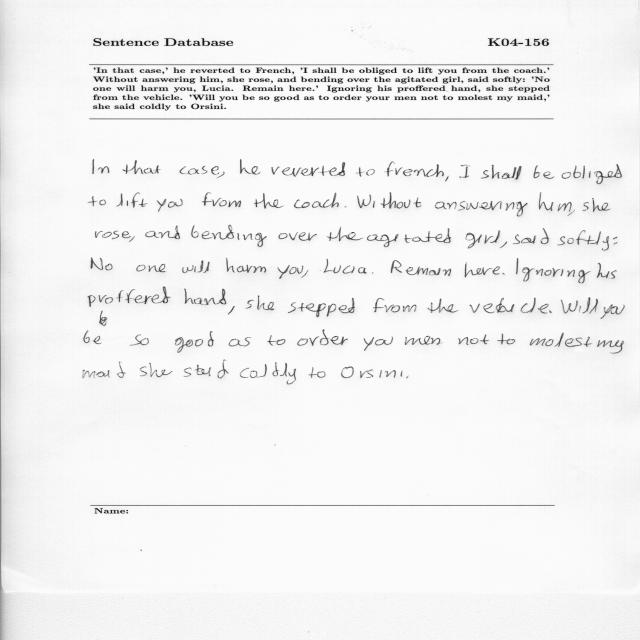word: (88, 287, 170, 326), (191, 225, 267, 247), (367, 228, 451, 247), (435, 201, 528, 216), (469, 298, 549, 314), (288, 298, 355, 317), (240, 363, 296, 385), (561, 164, 622, 184), (271, 162, 345, 177), (522, 268, 591, 284), (558, 230, 609, 251), (384, 161, 444, 177), (391, 260, 451, 276), (530, 333, 592, 347), (297, 329, 348, 346), (175, 331, 214, 353), (373, 192, 421, 209), (184, 360, 229, 378), (465, 231, 507, 249), (341, 367, 403, 378), (294, 193, 339, 208), (184, 289, 226, 305), (324, 259, 367, 274), (481, 165, 522, 180), (373, 298, 416, 312), (226, 258, 266, 273), (202, 193, 241, 208), (465, 263, 500, 278), (123, 160, 160, 174), (327, 227, 363, 241), (254, 193, 283, 209), (117, 193, 147, 208), (428, 298, 458, 313), (521, 228, 549, 244), (140, 363, 172, 377), (245, 295, 274, 310), (96, 231, 135, 242), (147, 226, 180, 239), (278, 265, 308, 279), (364, 337, 393, 351), (583, 198, 610, 212), (600, 304, 625, 319), (182, 261, 210, 274), (597, 340, 624, 353), (279, 232, 317, 241), (157, 199, 183, 212), (579, 297, 598, 314), (597, 263, 617, 279), (405, 336, 440, 345), (458, 335, 489, 345), (539, 192, 553, 211), (534, 166, 554, 179), (83, 370, 110, 379), (558, 202, 575, 216), (561, 300, 578, 314), (84, 331, 102, 344), (137, 264, 166, 272), (228, 337, 251, 347), (180, 166, 208, 174), (130, 335, 149, 346), (267, 335, 285, 346), (497, 334, 515, 345), (356, 167, 375, 177), (309, 367, 326, 378), (357, 195, 371, 208), (240, 159, 252, 174), (88, 196, 106, 206), (211, 166, 225, 178), (91, 258, 103, 270), (117, 362, 126, 378), (461, 165, 470, 178), (145, 231, 159, 238), (98, 166, 110, 173), (252, 166, 261, 175), (513, 234, 520, 244), (228, 306, 235, 315), (105, 264, 113, 271), (516, 258, 519, 274), (613, 237, 617, 245), (140, 366, 147, 370), (445, 176, 449, 181), (93, 159, 94, 174), (549, 310, 552, 313), (459, 176, 462, 178), (406, 376, 409, 378), (502, 273, 505, 274), (345, 206, 347, 207), (320, 270, 321, 271), (372, 272, 373, 273)
